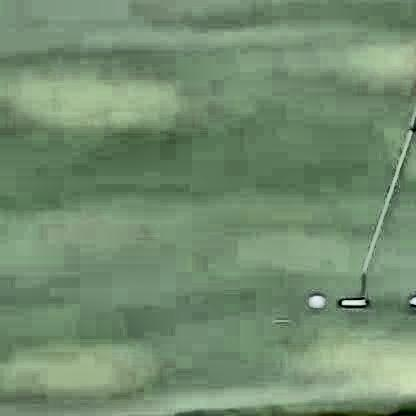golfball: (306, 291, 322, 307)
